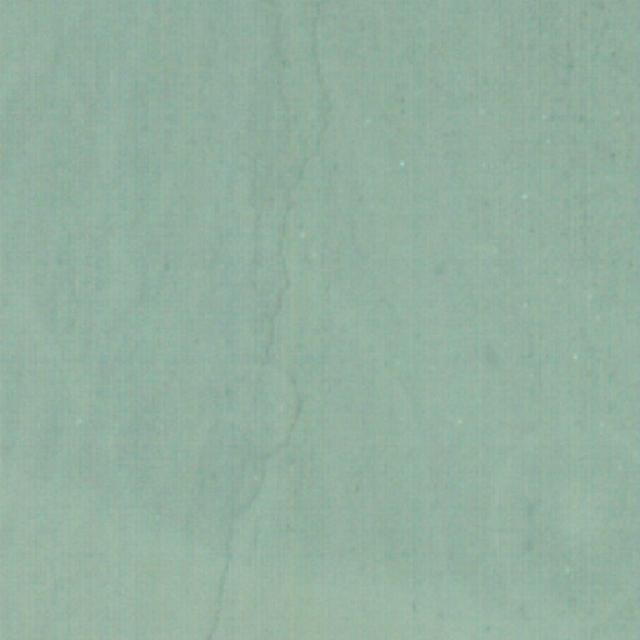Longitudinal: (204, 4, 350, 640)
